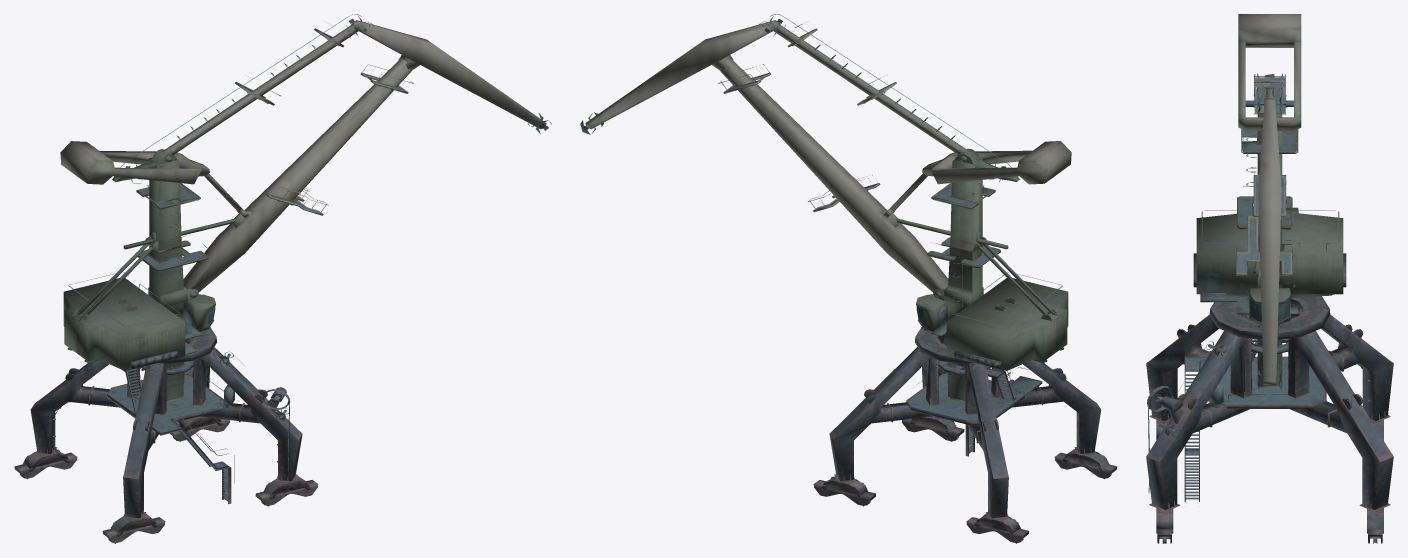
File: a10_crane.glb
The picture shows the model from 3 angles, left to right: view 1: azimuth 30°, elevation 25°; view 2: azimuth 150°, elevation 25°; view 3: azimuth 270°, elevation 25°; orthographic projection. The views are drawn at different scales.
Parts seen in each view (by area): view 1: body; view 2: body; view 3: body.
Part boxes in pixels (box(x1,y1,x2,y2)): body: box(14, 14, 551, 543); body: box(580, 14, 1116, 543); body: box(1146, 14, 1393, 543).
Bounding box in the file's own units: 0.9989 × 0.828 × 0.3688.
1 material, 1 textured.
